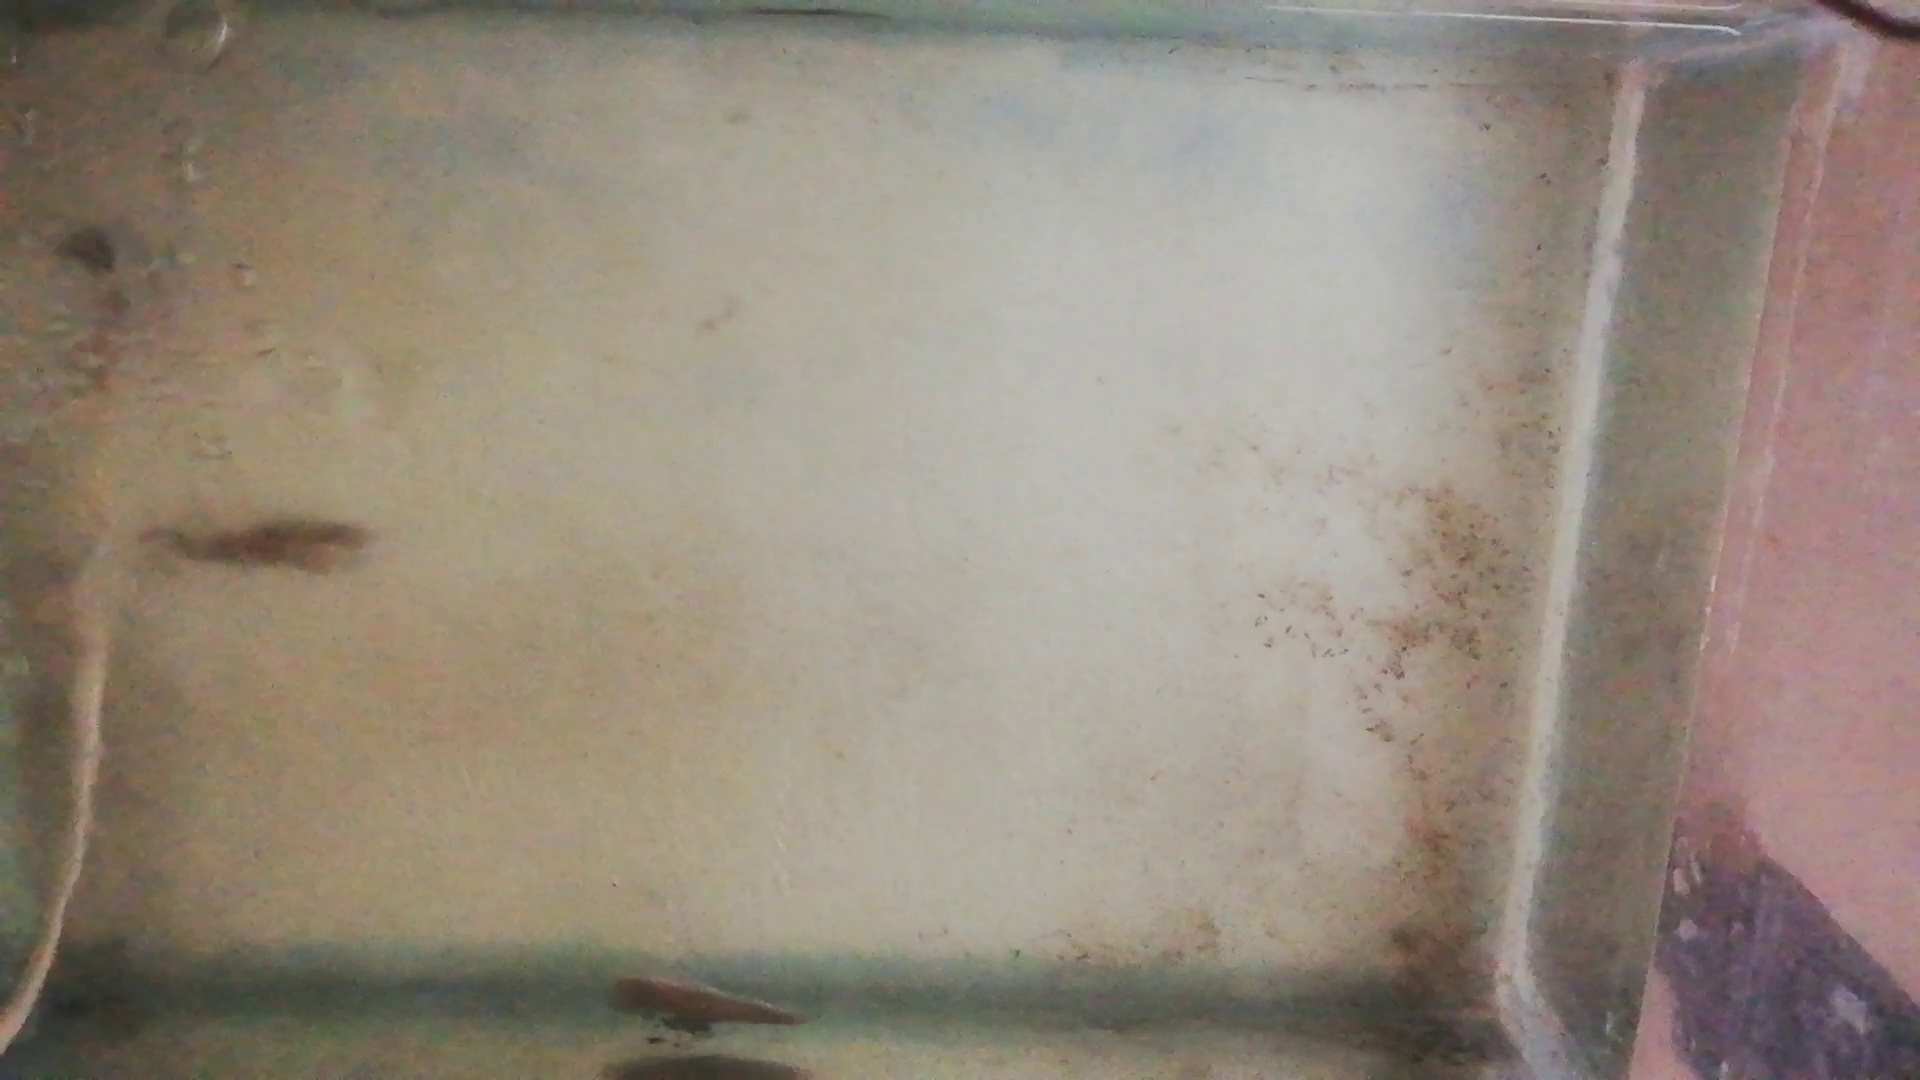fish: (145, 521, 375, 574), (608, 975, 802, 1029)
